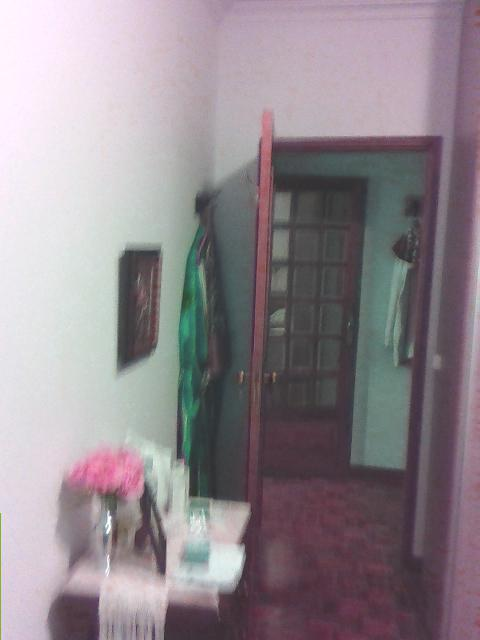open_door: (255, 133, 442, 559)
